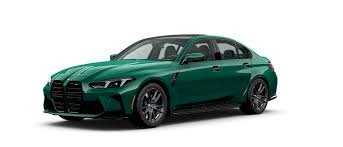car: (38, 30, 277, 126)
